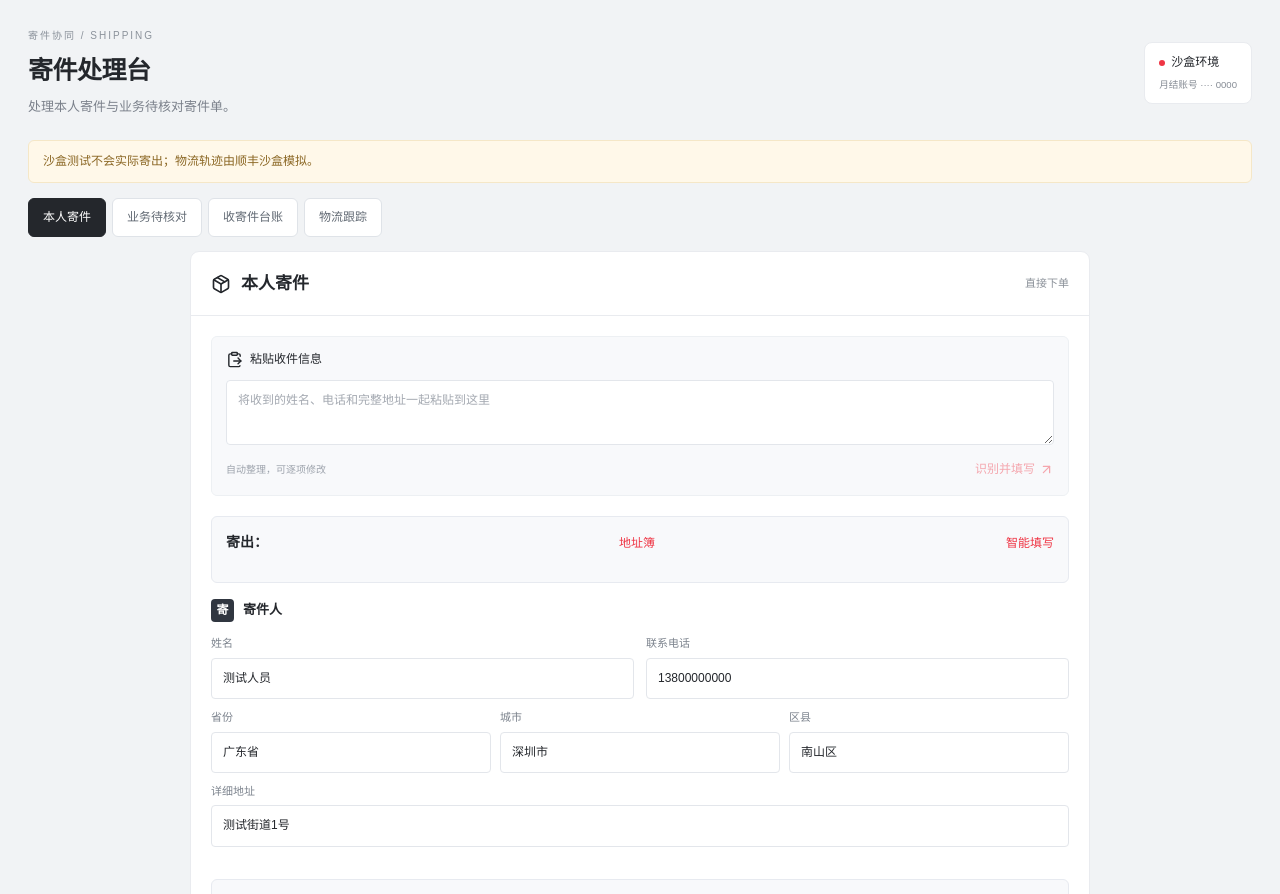
Test: one screen shipping interaction › separates direct ordering and tracking into explicit work views
Click the button "物流跟踪" at (343, 218), box [304,198,382,237]
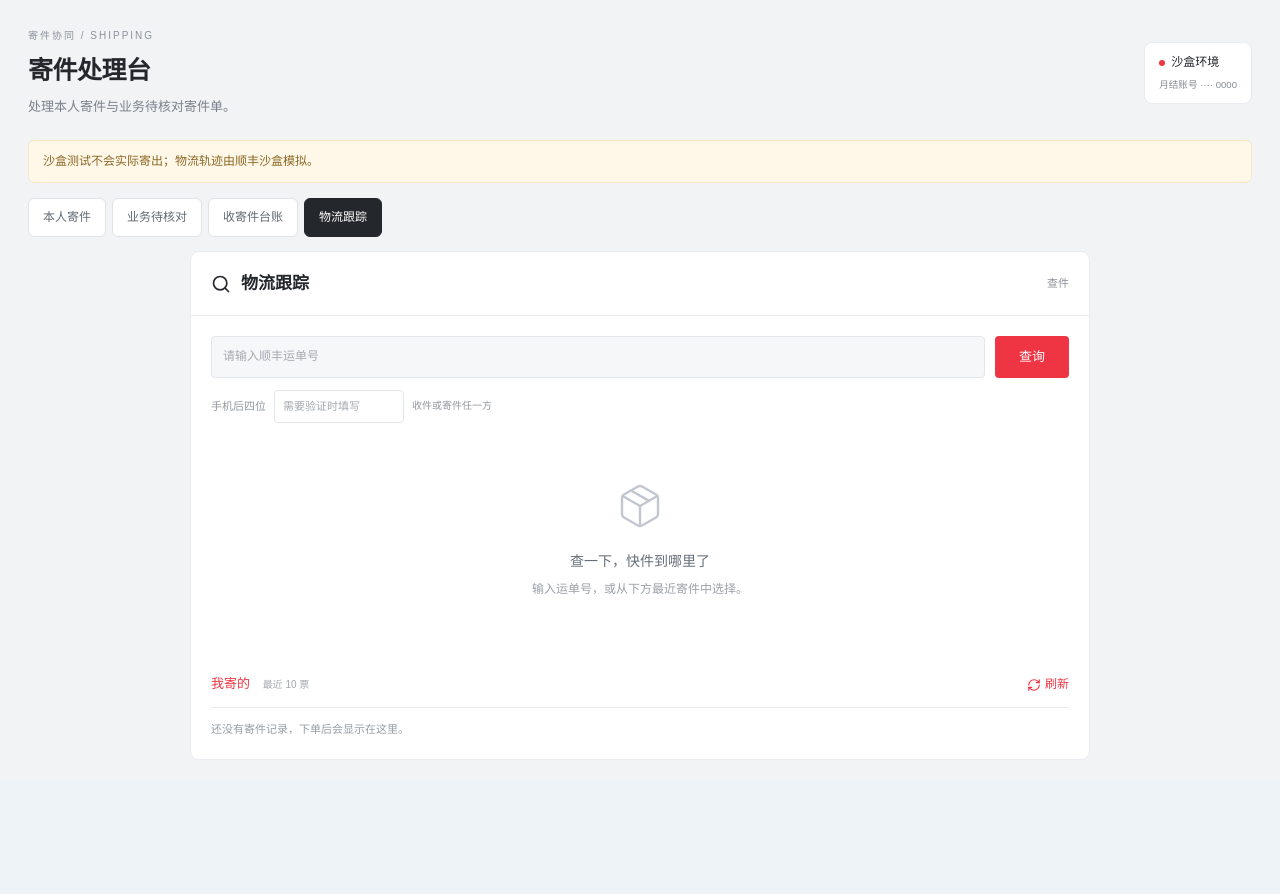
Expected: the element named "运单查询" is shown, [190,251,1090,760]
